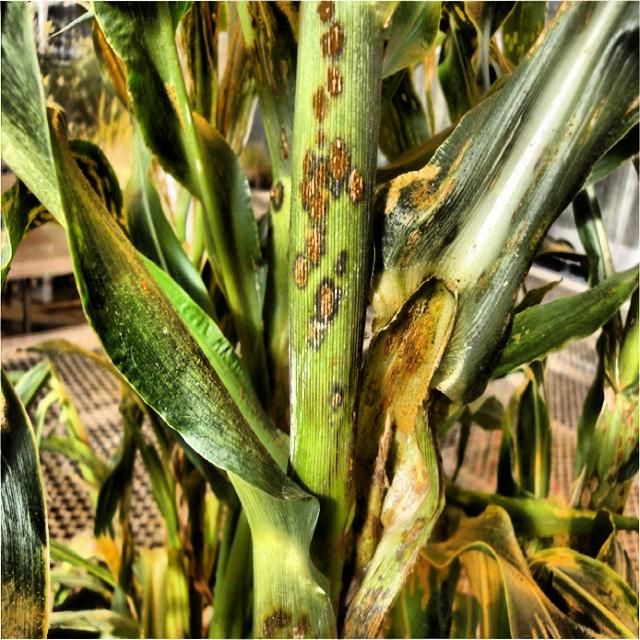common_rust: (272, 10, 379, 491)
